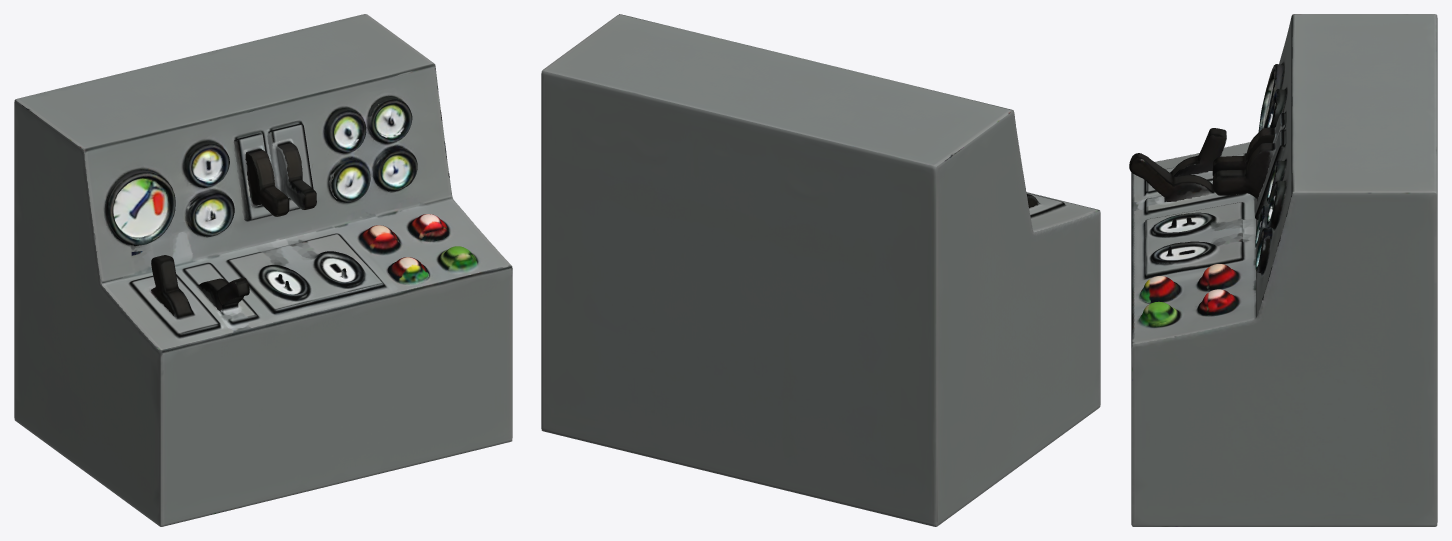
Rendered from reactor_console_tex.glb.
3 views of the same model, side by side, from view 1: azimuth 30°, elevation 25°; view 2: azimuth 150°, elevation 25°; view 3: azimuth 270°, elevation 25° (orthographic). The views are drawn at different scales.
Visible parts, largest first — view 1: tmp90gzbpw1.ply; view 2: tmp90gzbpw1.ply; view 3: tmp90gzbpw1.ply.
Boxes of the visible parts, left/top/right/bottom form: tmp90gzbpw1.ply: left=14, top=14, right=512, bottom=526; tmp90gzbpw1.ply: left=541, top=14, right=1100, bottom=526; tmp90gzbpw1.ply: left=1129, top=14, right=1437, bottom=526.
Size of the model in its own units: 0.9879 by 0.8618 by 0.7182.
Materials: 1 (1 with a texture image).
